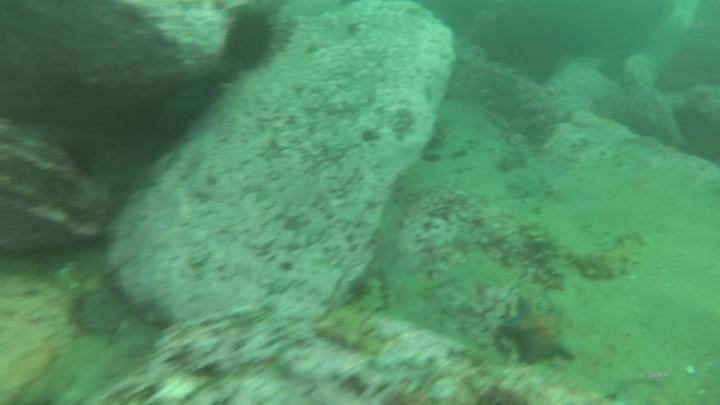echinus: (221, 6, 288, 73)
holothurian: (313, 275, 392, 357), (569, 230, 650, 284), (521, 220, 570, 291)
starfish: (497, 295, 578, 368)
